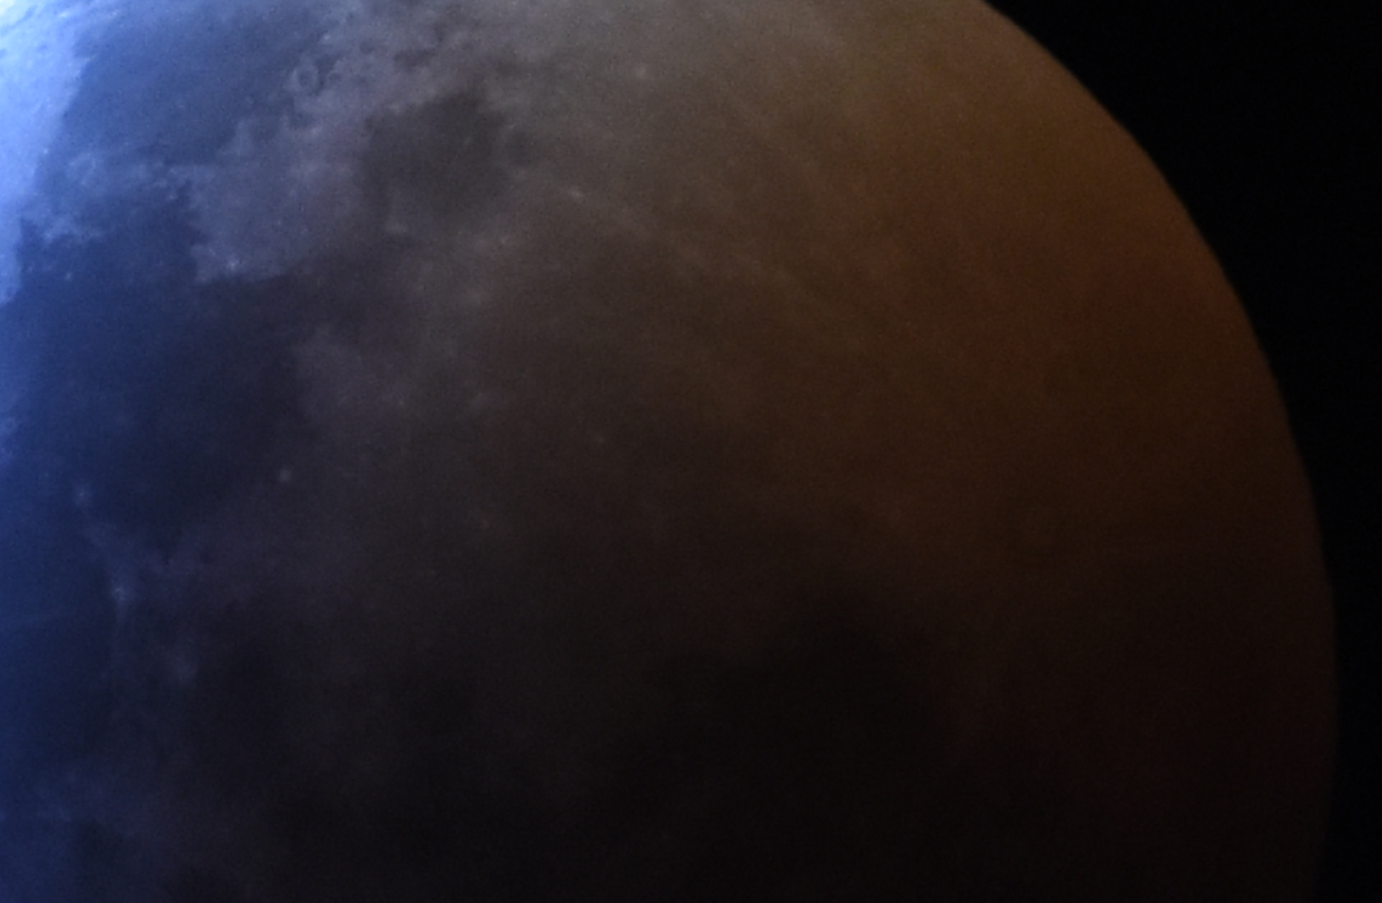crater: (1007, 476, 1102, 582), (76, 545, 151, 626), (141, 633, 225, 705), (263, 441, 317, 503), (267, 48, 329, 99), (209, 242, 259, 288), (620, 51, 670, 93), (549, 167, 598, 208), (577, 417, 627, 457), (463, 502, 508, 539)
